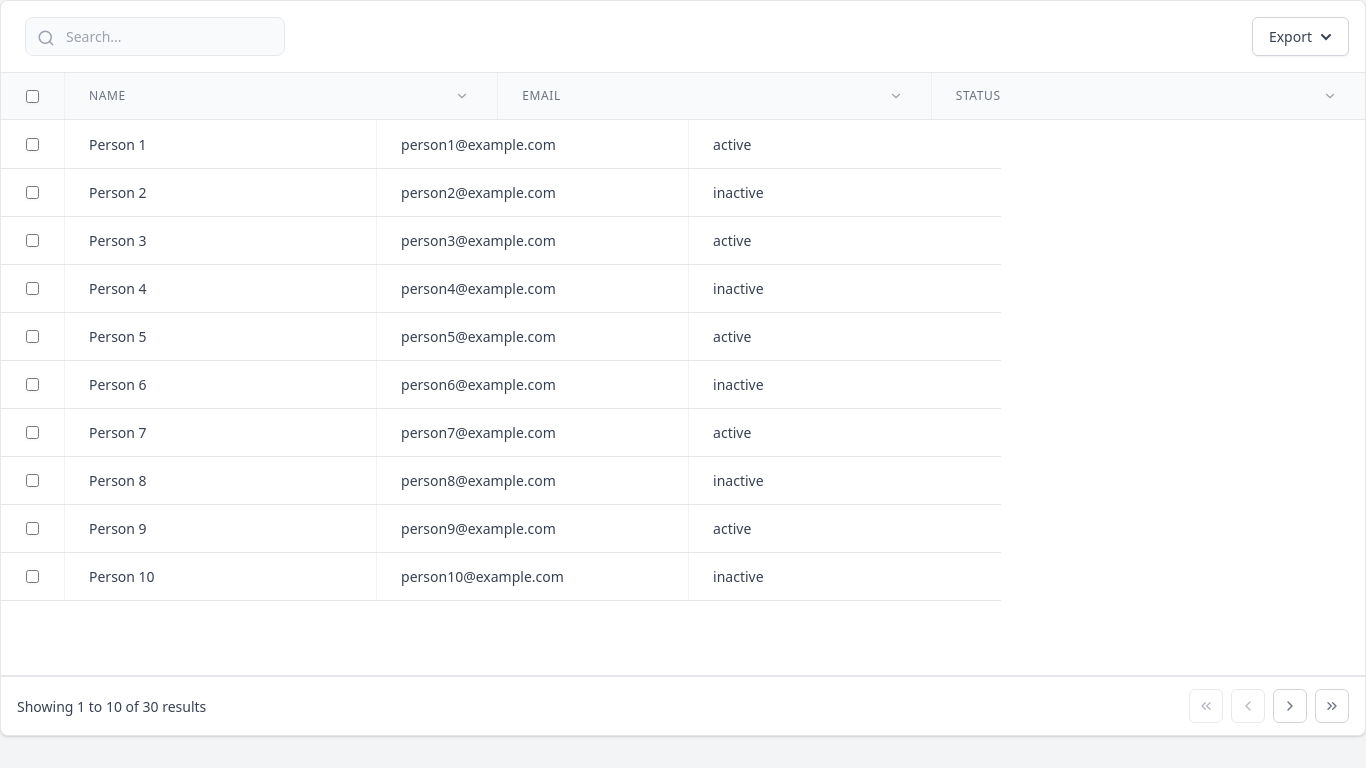
Test: DataTable Pagination › navigates to previous page
The width and height of the screenshot is (1366, 768).
What coordinates should you click on to do the following:
click the button named "Next page"
I would click on:
 (1290, 706)
Its box is 1273,689 -> 1307,723.
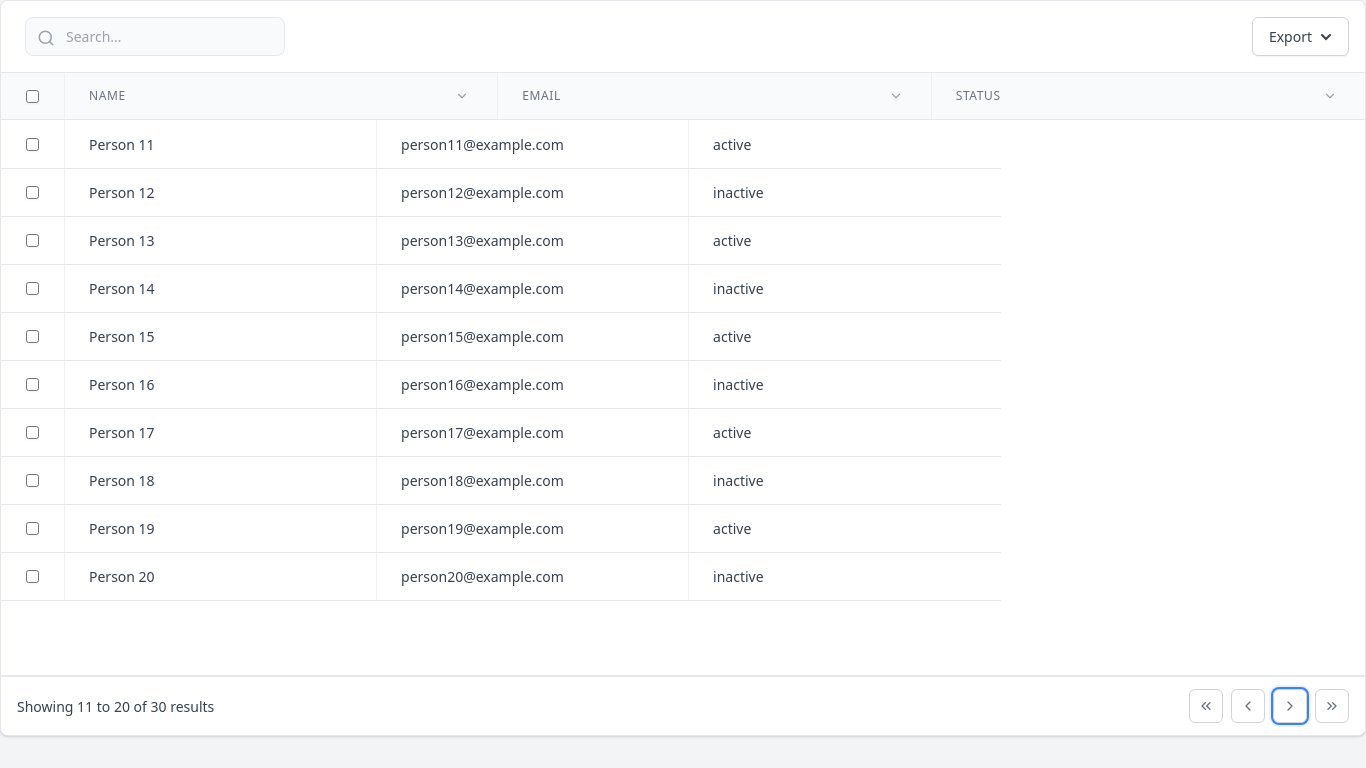
What coordinates should you click on to do the following:
click the button named "Previous page"
I would click on:
 (1248, 706)
Its box is 1231,689 -> 1265,723.
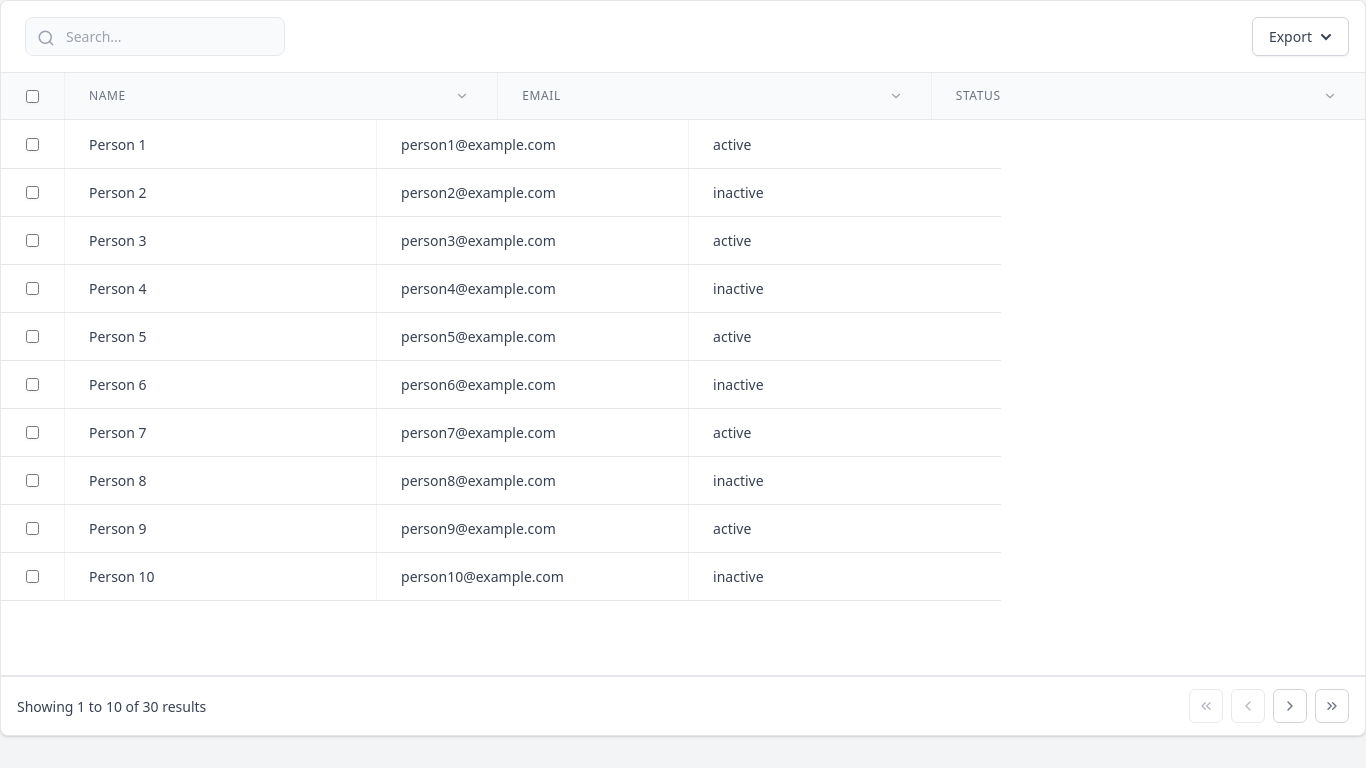
expect the text "Person 1" is shown: met, box 89,134 -> 147,154
expect the text "Person 11" is gone: met
